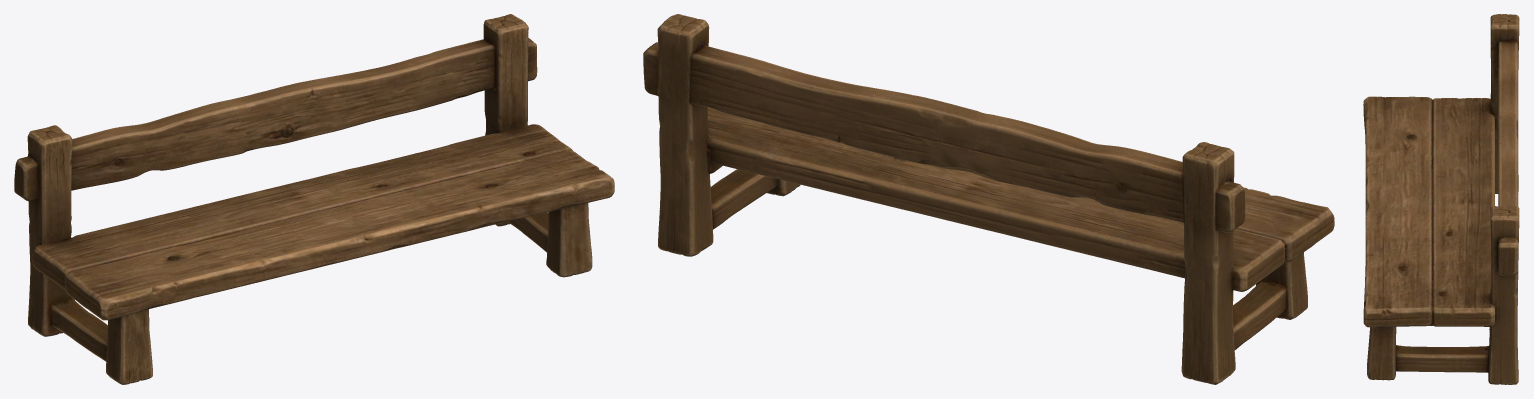
Rendered from wooden-bench-a.glb.
3 renders of one model, left to right at view 1: azimuth 30°, elevation 25°; view 2: azimuth 150°, elevation 25°; view 3: azimuth 270°, elevation 25°, orthographic. The views are drawn at different scales.
Visible parts, largest first — view 1: mesh_node; view 2: mesh_node; view 3: mesh_node.
Part boxes in pixels (x1,y1,x2,y2): mesh_node: [14, 14, 614, 384]; mesh_node: [643, 14, 1334, 384]; mesh_node: [1363, 14, 1519, 384].
Size of the model in its own units: 1.9 by 0.6923 by 0.5814.
1 material, 1 textured.
